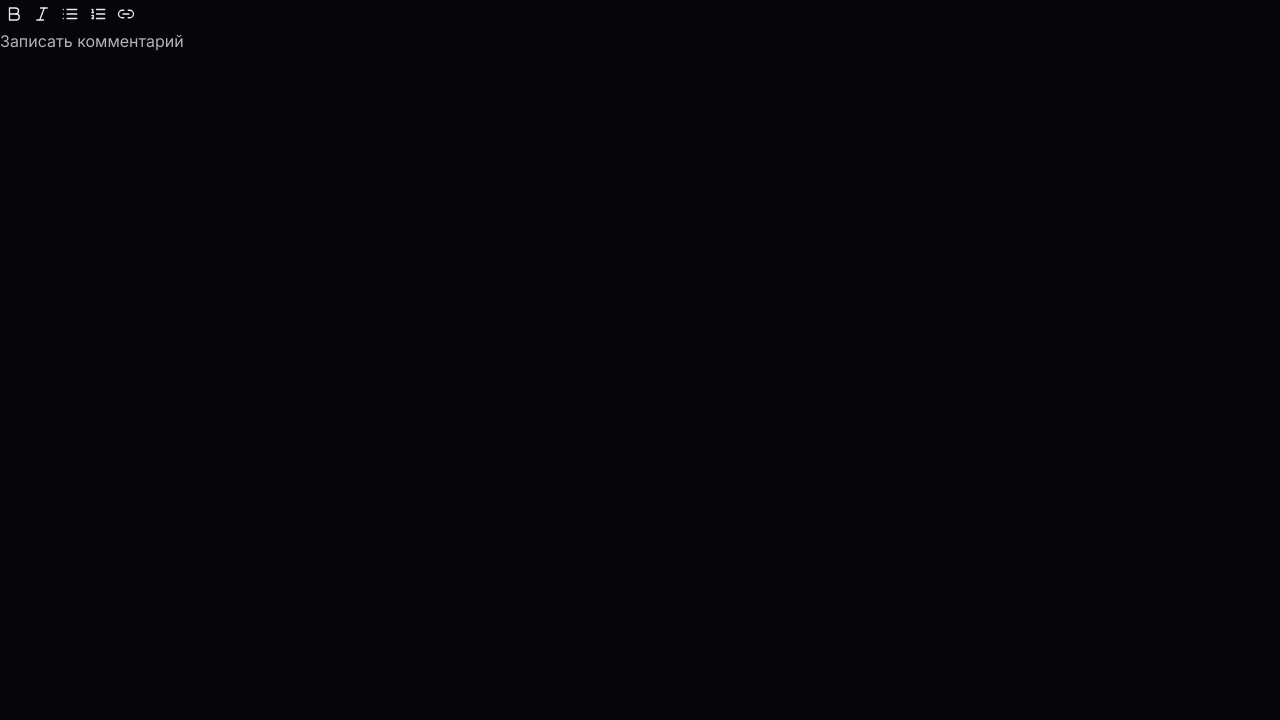
Test case: В буфере не адрес — окно НАШЕ, не браузерное › подсказка объясняет, почему спрашиваем
The image size is (1280, 720).
What coordinates should you click on to do the following:
click the button named "Ссылка"
I would click on:
 (126, 14)
Its box is [112, 0, 140, 28].
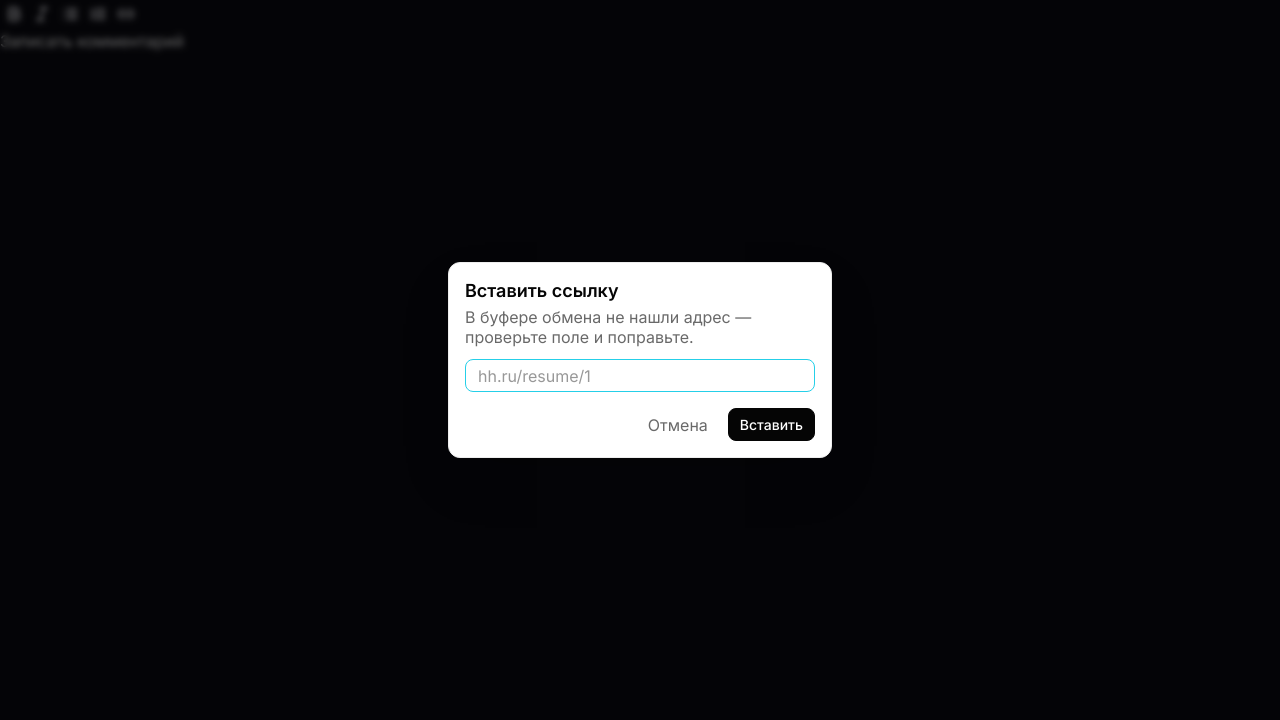
expect the dialog shows "Вставить ссылку": met, box [465, 280, 618, 301]
expect the dialog shows "В буфере обмена не нашли адрес": met, box [465, 307, 751, 347]
